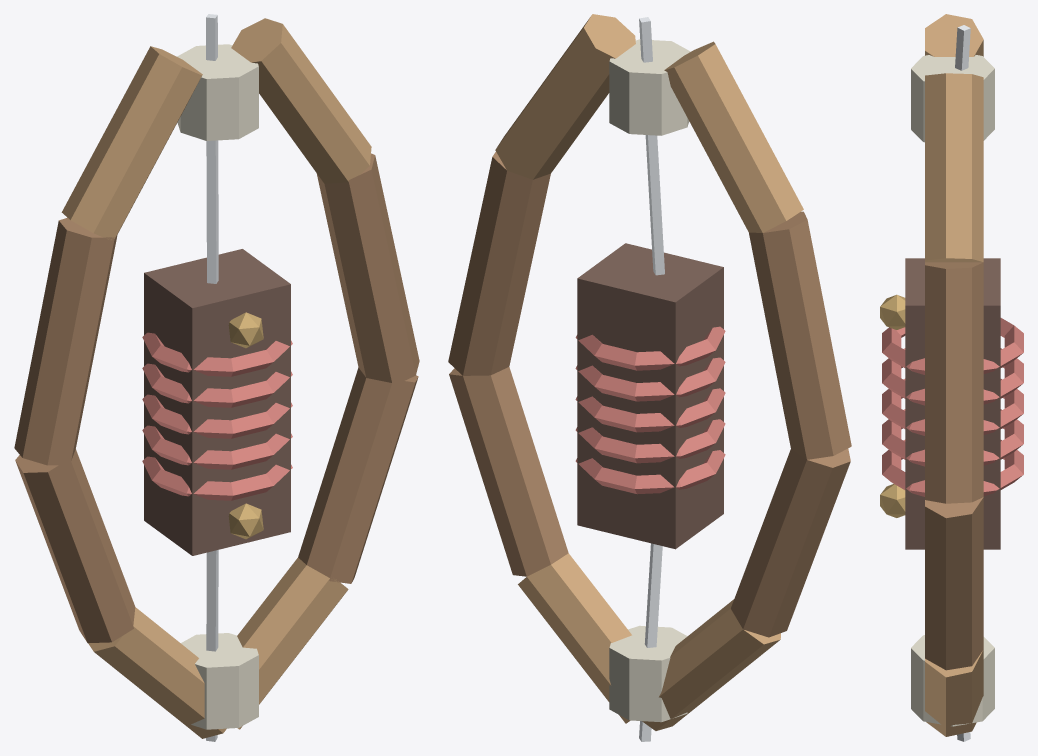
Rendered from strung_bow.glb.
3 renders of one model, left to right at view 1: azimuth 30°, elevation 25°; view 2: azimuth 150°, elevation 25°; view 3: azimuth 270°, elevation 25°, orthographic.
Parts seen in each view (by area): view 1: WrappedRiser.002, LeftLimb_2.002, RightLimb_2.002, RightLimb_1.002, LeftLimb_3.002, LeftLimb_1.002, RightLimb_3.002, RightLimb_0.002, LeftLimb_0.002, TipCap_0.002, TipCap_-0.002, GripWrap_0.019 (+8 smaller); view 2: WrappedRiser.002, LeftLimb_2.002, RightLimb_2.002, RightLimb_1.002, LeftLimb_3.002, LeftLimb_1.002, RightLimb_3.002, RightLimb_0.002, LeftLimb_0.002, TipCap_0.002, TipCap_-0.002, GripWrap_1.019 (+6 smaller); view 3: RightLimb_2.002, RightLimb_3.002, RightLimb_1.002, WrappedRiser.002, RightLimb_0.002, TipCap_0.002, TipCap_-0.002, GripWrap_4.019, LeftLimb_3.002, GripWrap_1.019, GripWrap_3.019, GripWrap_2.019 (+4 smaller).
Boxes of the visible parts, x1=… form: WrappedRiser.002: x1=144, y1=249, x2=290, y2=555; LeftLimb_2.002: x1=14, y1=217, x2=117, y2=465; RightLimb_2.002: x1=316, y1=153, x2=419, y2=382; RightLimb_1.002: x1=298, y1=367, x2=418, y2=583; LeftLimb_3.002: x1=61, y1=46, x2=202, y2=240; LeftLimb_1.002: x1=15, y1=449, x2=135, y2=643; RightLimb_3.002: x1=231, y1=18, x2=371, y2=183; RightLimb_0.002: x1=237, y1=557, x2=348, y2=729; LeftLimb_0.002: x1=88, y1=607, x2=226, y2=738; TipCap_0.002: x1=177, y1=44, x2=258, y2=140; TipCap_-0.002: x1=181, y1=633, x2=258, y2=729; GripWrap_0.019: x1=142, y1=456, x2=292, y2=500; WrappedRiser.002: x1=577, y1=243, x2=723, y2=549; LeftLimb_2.002: x1=749, y1=211, x2=851, y2=459; RightLimb_2.002: x1=448, y1=152, x2=550, y2=375; RightLimb_1.002: x1=449, y1=367, x2=568, y2=576; LeftLimb_3.002: x1=664, y1=41, x2=803, y2=232; LeftLimb_1.002: x1=731, y1=448, x2=850, y2=637; RightLimb_3.002: x1=495, y1=14, x2=635, y2=179; RightLimb_0.002: x1=518, y1=553, x2=631, y2=723; LeftLimb_0.002: x1=642, y1=599, x2=780, y2=730; TipCap_0.002: x1=609, y1=39, x2=690, y2=135; TipCap_-0.002: x1=609, y1=625, x2=687, y2=722; GripWrap_1.019: x1=575, y1=419, x2=725, y2=463; RightLimb_2.002: x1=925, y1=262, x2=983, y2=503; RightLimb_3.002: x1=925, y1=73, x2=983, y2=262; RightLimb_1.002: x1=925, y1=497, x2=983, y2=670; WrappedRiser.002: x1=905, y1=258, x2=1000, y2=549; RightLimb_0.002: x1=925, y1=650, x2=983, y2=736; TipCap_0.002: x1=911, y1=55, x2=994, y2=142; TipCap_-0.002: x1=911, y1=635, x2=994, y2=726; GripWrap_4.019: x1=882, y1=318, x2=1023, y2=374; LeftLimb_3.002: x1=925, y1=14, x2=983, y2=56; GripWrap_1.019: x1=882, y1=409, x2=1023, y2=466; GripWrap_3.019: x1=882, y1=348, x2=1023, y2=405; GripWrap_2.019: x1=882, y1=378, x2=1023, y2=435.
Size of the model in its own units: 0.8049 by 1.4 by 0.2563.
